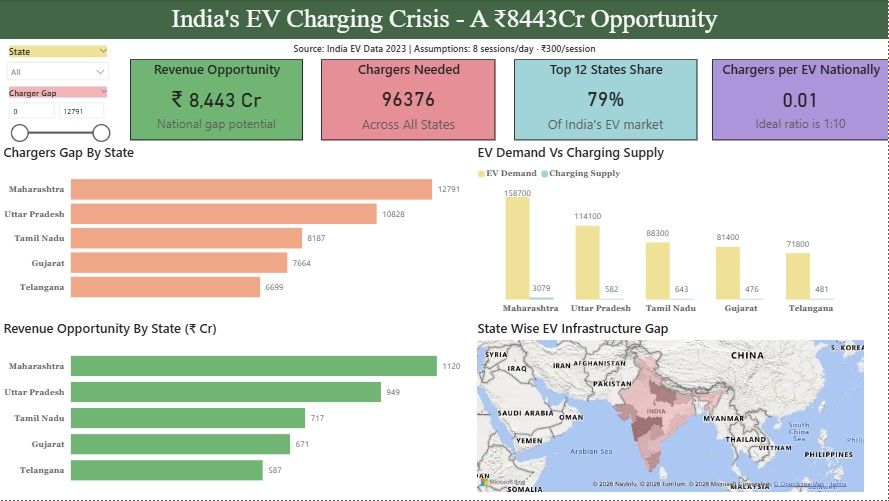

This screenshot's page, from the dashboard's own definition file:
{"tool":"powerbi","page":{"name":"EV","canvas":[1280,720],"ordinal":0},"visuals":[{"type":"textbox","box":[0,0,1280.2,60.5],"z":0},{"type":"card","title":"Revenue Opportunity","fields":{"Values":["gap.Revenue_Cr"]},"box":[187.1,84.3,248.6,117.1],"z":1000},{"type":"card","title":"Chargers Needed ","fields":{"Values":["Sum(gap.Charger_Gap)"]},"box":[462.9,84.3,251.4,117.1],"z":2000},{"type":"card","title":"Top 12 States Share","fields":{"Values":["gap.Top12_Share"]},"box":[740.2,85,263.5,116.6],"z":3000},{"type":"clusteredBarChart","title":"Chargers Gap By State","fields":{"Y":["Sum(gap.Charger_Gap)"],"Category":["gap.State"]},"box":[0,205.9,668.2,241.9],"z":4000},{"type":"clusteredColumnChart","title":"EV Demand Vs Charging Supply","fields":{"Category":["gap.State"],"Y":["Sum(gap.EV_Sales)","Sum(gap.Charging_Stations)"]},"box":[682.6,205.9,567.4,253.4],"z":5000},{"type":"clusteredBarChart","title":"Revenue Opportunity By State (₹ Cr)","fields":{"Category":["gap.State"],"Y":["Sum(gap.State_Revenue_Cr)"]},"box":[0,459.4,668.2,253.4],"z":6000},{"type":"card","title":"Chargers per EV Nationally","fields":{"Values":["gap.Chargers_Per_EV"]},"box":[1025.3,85,254.9,116.6],"z":7000},{"type":"textbox","box":[0,56.2,1280.2,28.8],"z":8000},{"type":"filledMap","title":"State Wise EV Infrastructure Gap","fields":{"Category":["gap.State"]},"box":[682.5,458.7,566.7,254],"z":9000},{"type":"slicer","fields":{"Values":["gap.State"]},"box":[0,60.5,167,59],"z":10000},{"type":"slicer","fields":{"Values":["gap.Charger_Gap"]},"box":[0,119.5,167,86.4],"z":11000}]}

Visuals, with their boxes in screenshot pixels (x1, y1, x2, y2), scaled from the page's 1280x720 canvas onto the 889x501 screenshot:
textbox: (0,0,888,42)
"Revenue Opportunity" card: (130,59,303,140)
"Chargers Needed " card: (321,59,496,140)
"Top 12 States Share" card: (514,59,697,140)
"Chargers Gap By State" clusteredBarChart: (0,143,464,312)
"EV Demand Vs Charging Supply" clusteredColumnChart: (474,143,868,320)
"Revenue Opportunity By State (₹ Cr)" clusteredBarChart: (0,320,464,496)
"Chargers per EV Nationally" card: (712,59,888,140)
textbox: (0,39,888,59)
"State Wise EV Infrastructure Gap" filledMap: (474,319,868,496)
slicer - gap.State: (0,42,116,83)
slicer - gap.Charger_Gap: (0,83,116,143)
